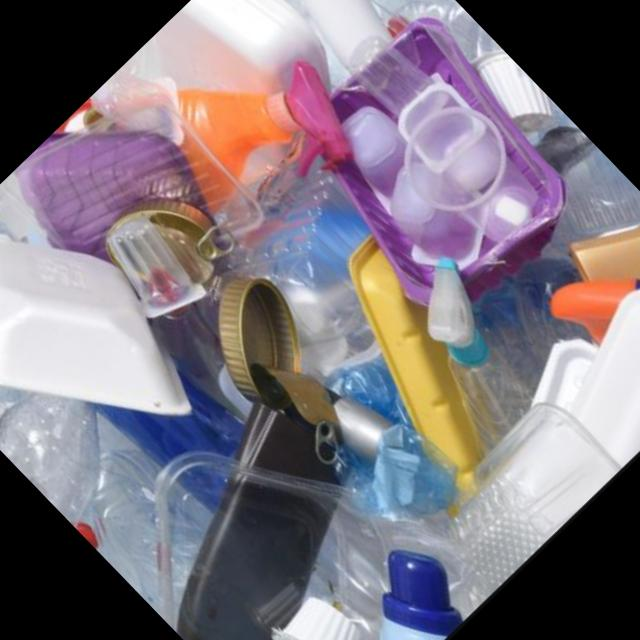KemasanPlastik: (95, 387, 454, 640), (406, 394, 616, 602), (381, 80, 564, 264), (90, 207, 218, 336)
